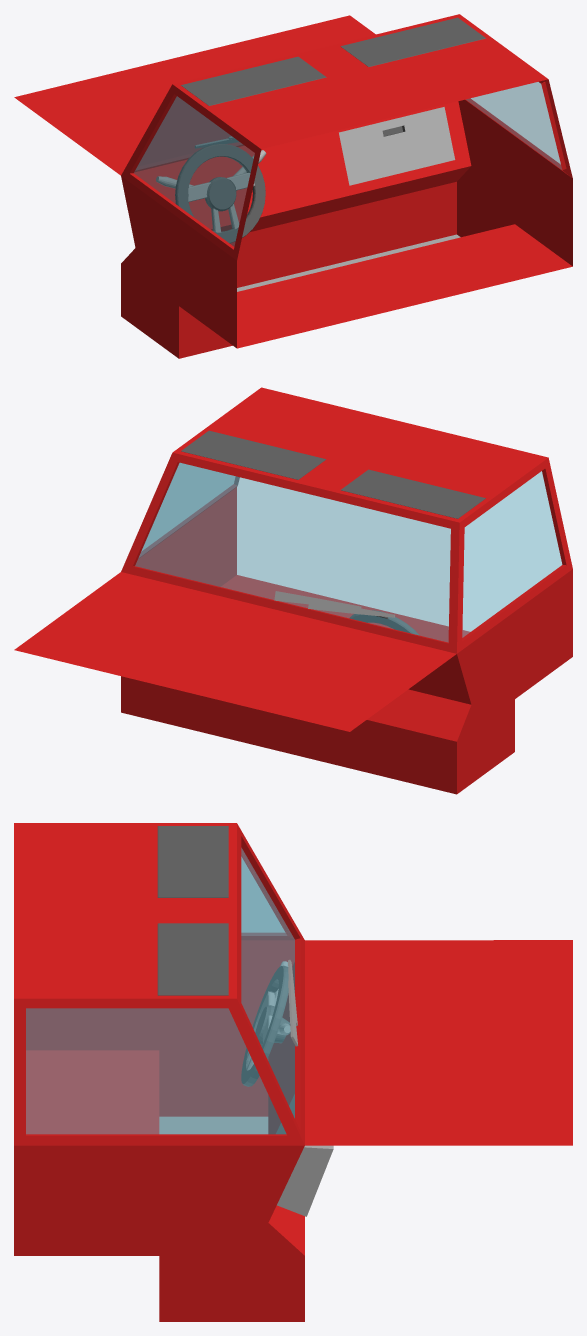
File: InteriorCar.fbx
The picture shows the model from 3 angles, top to bottom: view 1: azimuth 30°, elevation 25°; view 2: azimuth 150°, elevation 25°; view 3: azimuth 270°, elevation 25°; orthographic projection. The views are drawn at different scales.
Visible parts, largest first — view 1: Body, GloveBox, SteeringWing, SunScreenLeft, SunScreenRight; view 2: Body, SunScreenLeft, SunScreenRight, WiperRight, SteeringWing; view 3: Body, SunScreenRight, SunScreenLeft, SteeringWing.
Part boxes in pixels (left/top/right/bottom): Body: left=14, top=14, right=572, bottom=358; GloveBox: left=339, top=107, right=455, bottom=185; SteeringWing: left=175, top=143, right=265, bottom=243; SunScreenLeft: left=181, top=56, right=326, bottom=105; SunScreenRight: left=340, top=17, right=485, bottom=66; Body: left=14, top=387, right=572, bottom=794; SunScreenLeft: left=340, top=469, right=485, bottom=518; SunScreenRight: left=181, top=430, right=325, bottom=479; WiperRight: left=274, top=591, right=361, bottom=609; SteeringWing: left=349, top=610, right=419, bottom=635; Body: left=14, top=823, right=572, bottom=1321; SunScreenRight: left=157, top=923, right=228, bottom=995; SunScreenLeft: left=157, top=826, right=228, bottom=897; SteeringWing: left=241, top=965, right=289, bottom=1086.
Size of the model in its own units: 400 by 280 by 460.
